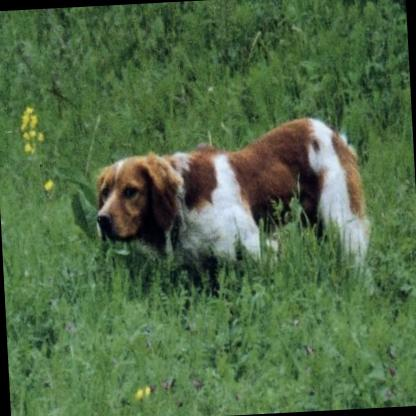Brittany_spaniel: (88, 110, 374, 304)
